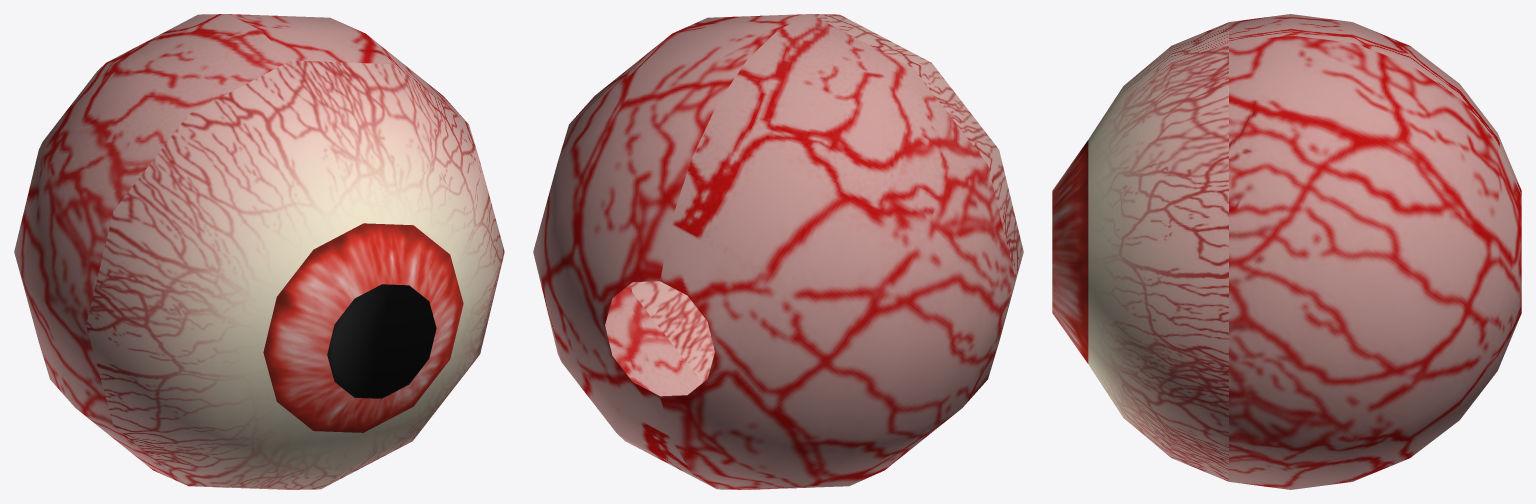
File: giant_eyeball_2.glb
3 renders of one model, left to right at view 1: azimuth 30°, elevation 25°; view 2: azimuth 150°, elevation 25°; view 3: azimuth 270°, elevation 25°, orthographic. The views are drawn at different scales.
Parts seen in each view (by area): view 1: Eyeball; view 2: Eyeball; view 3: Eyeball.
Part boxes in pixels (x1,y1,x2,y2): Eyeball: (14, 14, 504, 489); Eyeball: (533, 14, 1023, 489); Eyeball: (1052, 14, 1521, 489).
Size of the model in its own units: 2 by 2 by 1.96.
1 material, 1 textured.
